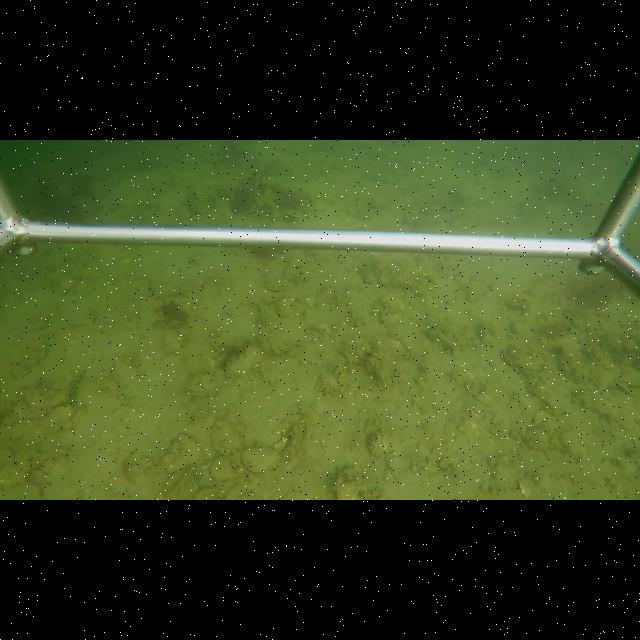Oyster-Closed: (165, 432, 202, 470), (508, 342, 546, 374), (43, 404, 77, 426), (211, 454, 233, 480)
Oyster-Open: (533, 380, 573, 418), (235, 446, 281, 478)
